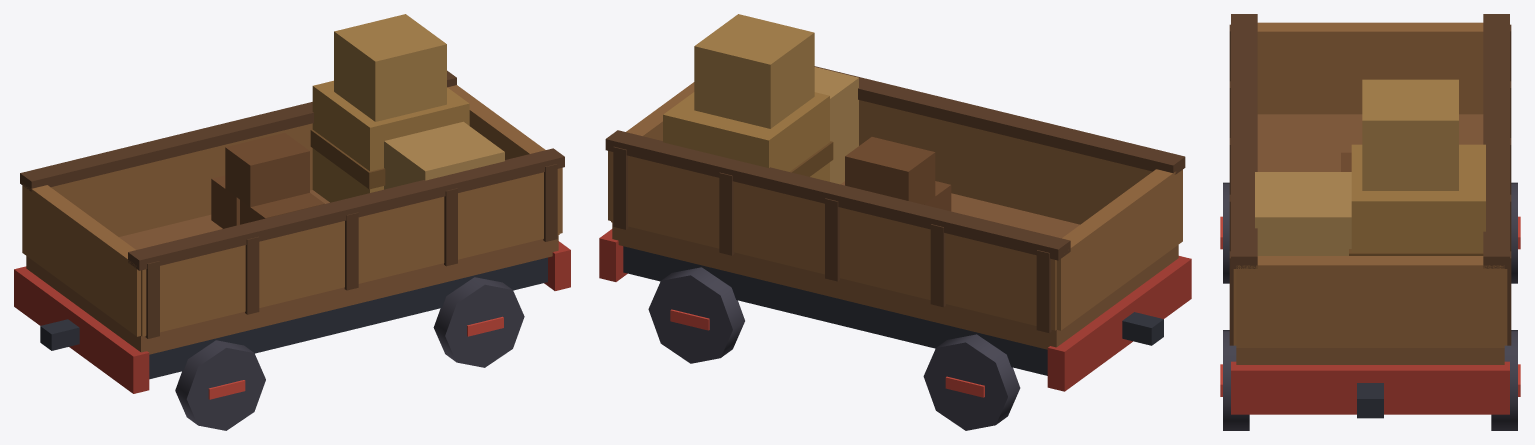
Rendered from car_04.glb.
The picture shows the model from 3 angles, left to right: view 1: azimuth 30°, elevation 25°; view 2: azimuth 150°, elevation 25°; view 3: azimuth 270°, elevation 25°; orthographic projection. The views are drawn at different scales.
Visible parts, largest first — view 1: car_04, Wheel1, Wheel3; view 2: car_04, Wheel0, Wheel2; view 3: car_04, Wheel2, Wheel3, Wheel0, Wheel1.
Boxes of the visible parts, x1=… form: car_04: x1=14, y1=14, x2=570, y2=393; Wheel1: x1=175, y1=340, x2=265, y2=430; Wheel3: x1=433, y1=277, x2=524, y2=367; car_04: x1=599, y1=14, x2=1191, y2=391; Wheel0: x1=923, y1=334, x2=1020, y2=430; Wheel2: x1=648, y1=267, x2=744, y2=363; car_04: x1=1229, y1=14, x2=1511, y2=418; Wheel2: x1=1491, y1=330, x2=1520, y2=430; Wheel3: x1=1220, y1=330, x2=1249, y2=430; Wheel0: x1=1511, y1=182, x2=1520, y2=283; Wheel1: x1=1220, y1=182, x2=1229, y2=283.
Bounding box in the file's own units: 2.48 × 1.32 × 1.12.
